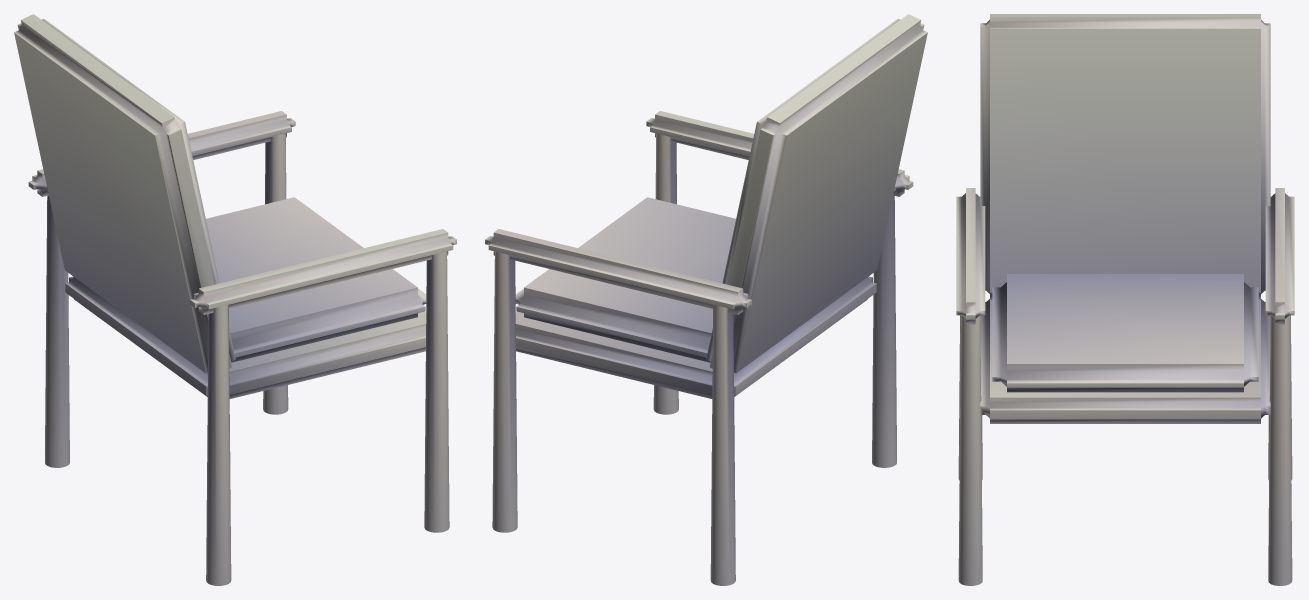
Rendered from cane-chair.glb.
3 renders of one model, left to right at view 1: azimuth 30°, elevation 25°; view 2: azimuth 150°, elevation 25°; view 3: azimuth 270°, elevation 25°, orthographic. The views are drawn at different scales.
Visible parts, largest first — view 1: body; view 2: body; view 3: body.
Part boxes in pixels (x1,y1,x2,y2): body: (14, 14, 456, 585); body: (485, 14, 927, 585); body: (956, 14, 1294, 585).
Size of the model in its own units: 0.6675 by 1.02 by 0.7.
